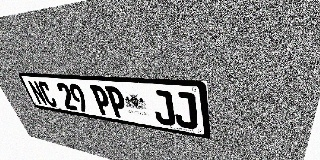2: (55, 82, 78, 111)
9: (67, 83, 90, 113)
C: (37, 81, 58, 108)
J: (172, 91, 198, 130), (150, 89, 176, 127)
N: (27, 80, 48, 106)
P: (104, 86, 129, 119), (89, 85, 114, 116)
